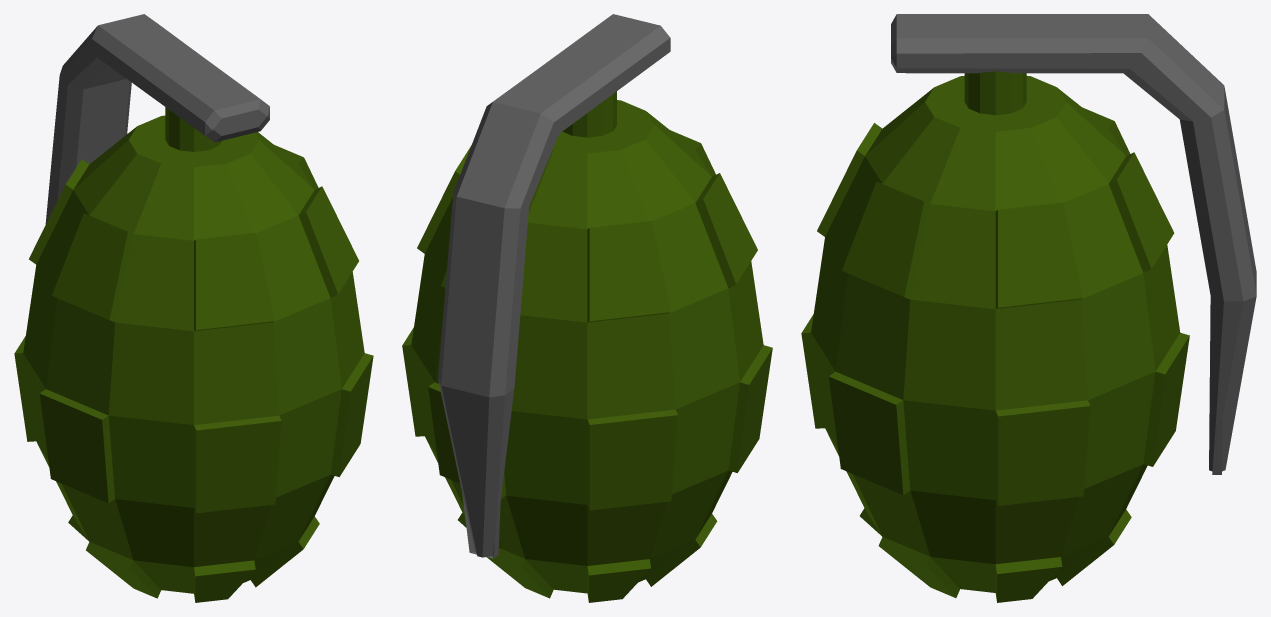
Rendered from Granade.fbx.
3 renders of one model, left to right at view 1: azimuth 30°, elevation 25°; view 2: azimuth 150°, elevation 25°; view 3: azimuth 270°, elevation 25°, orthographic. The views are drawn at different scales.
Parts seen in each view (by area): view 1: Granade; view 2: Granade; view 3: Granade.
Part boxes in pixels (box(x1,y1,x2,y2)): Granade: box(14, 14, 373, 602); Granade: box(402, 14, 772, 602); Granade: box(801, 14, 1256, 602).
Size of the model in its own units: 0.0842 by 0.1326 by 0.0986.
